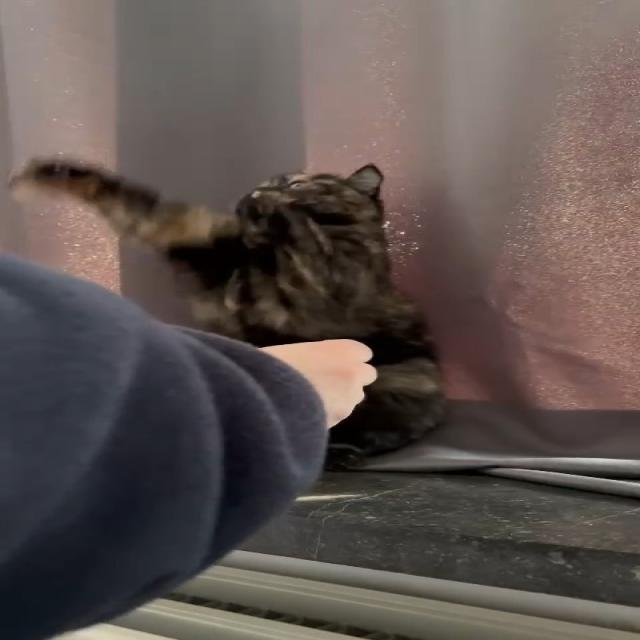authorized: (8, 156, 449, 470)
